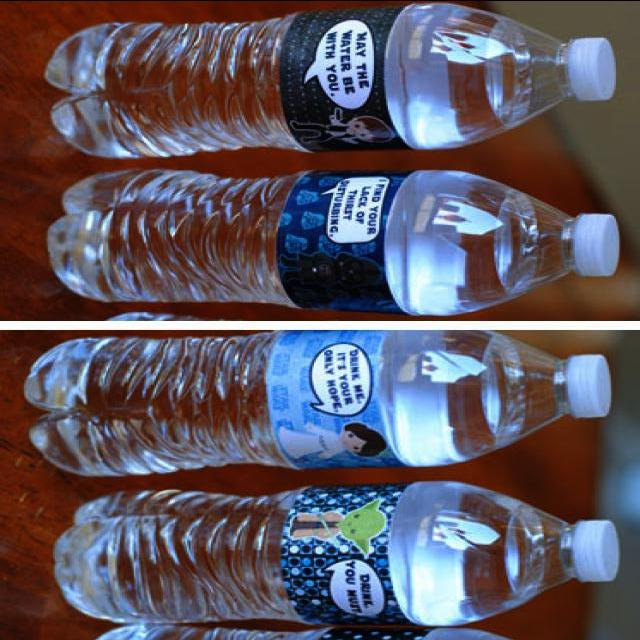cap: (565, 514, 621, 585), (565, 32, 615, 108), (565, 348, 613, 424), (568, 210, 618, 280)
label: (284, 2, 398, 154), (284, 168, 401, 310), (269, 332, 385, 466), (286, 486, 388, 624)
not-crumbled: (34, 0, 628, 164), (17, 328, 621, 480), (40, 162, 633, 316), (49, 478, 631, 630)
